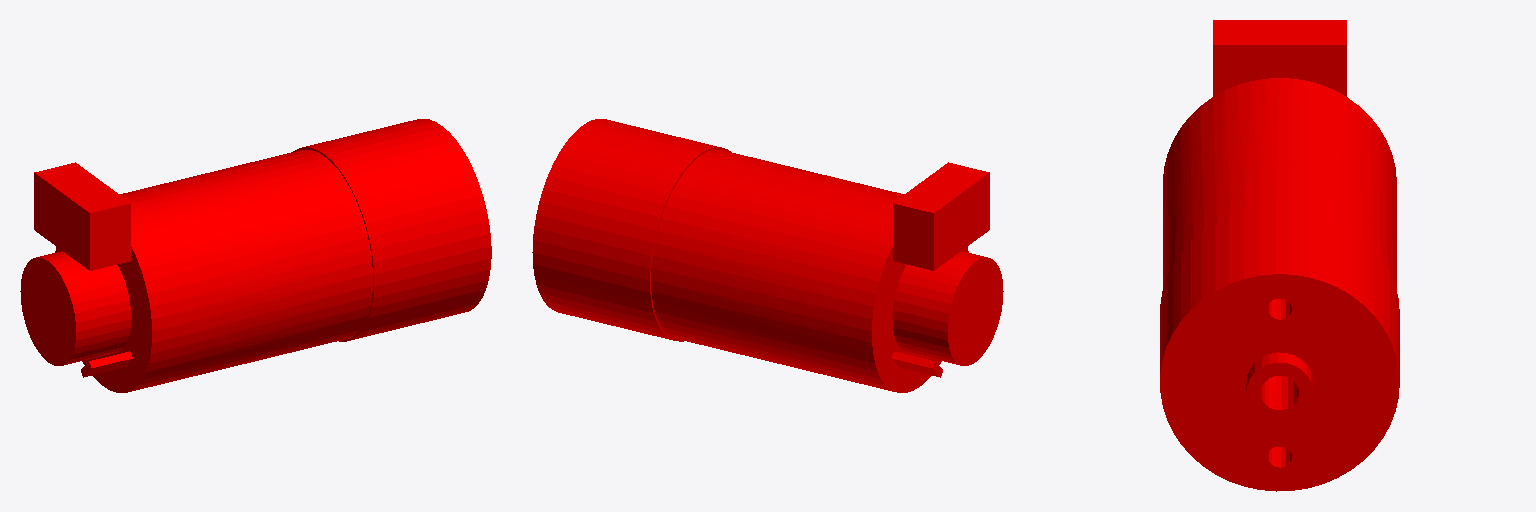
robot.urdf — test_robot:
<robot name="test_robot">
  <link name="base_link"/>

  <joint name="body_joint" type="fixed">
    <parent link="base_link"/>
    <child  link="body_link"/>
  </joint>
  <link name="body_link">
    <visual>
      <geometry>
        <mesh filename="package://vis_lecture/stl/stl_part.stl" />
      </geometry>
      <origin xyz="0 0 0" rpy="0 0 0"/>
        <material name="red">
        <color rgba="1.0 0.0 0.0 1.0"/>
      </material>
    </visual>
  </link>
</robot>

--- Facts derived from the render (not from the file) ---
3 views of the same robot in one strip: view 1: azimuth 30°, elevation 25°; view 2: azimuth 150°, elevation 25°; view 3: azimuth 270°, elevation 25° (orthographic).
Robot: test_robot — 2 links, 1 joints (1 fixed); root link base_link; default pose: every joint at zero.
Visible links, largest first — view 1: body_link; view 2: body_link; view 3: body_link.
Link boxes in pixels (x1,y1,x2,y2): body_link: (20, 119, 491, 392); body_link: (532, 119, 1003, 392); body_link: (1160, 20, 1399, 491).
Bounding box of the posed robot: 0.0595 × 0.025 × 0.0285 m (x, y, z).
1 mesh visuals loaded from 1 distinct referenced files (1 binary STL).